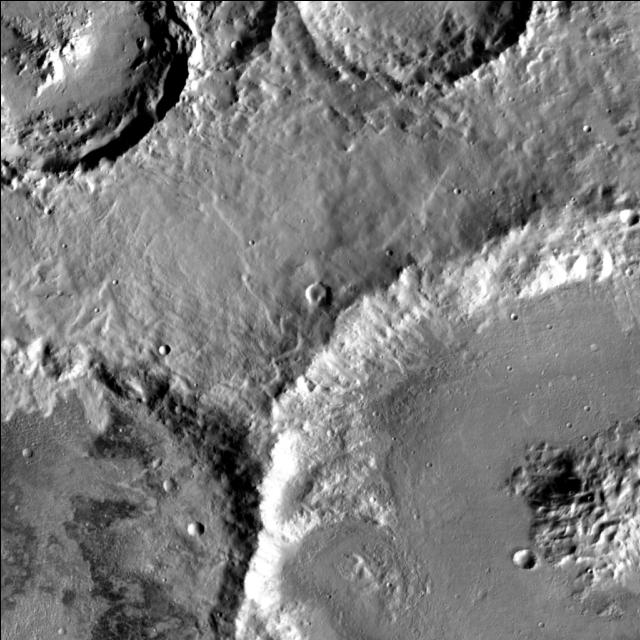crater: (246, 205, 640, 640), (0, 331, 315, 640), (0, 0, 180, 168), (234, 510, 414, 640), (298, 278, 324, 302), (392, 262, 417, 283), (506, 544, 530, 564), (288, 373, 306, 389), (614, 206, 632, 222), (180, 518, 196, 532), (154, 474, 168, 486), (152, 340, 164, 350), (14, 444, 26, 454), (224, 36, 234, 46), (458, 349, 468, 359), (49, 624, 58, 632), (146, 456, 154, 464), (576, 120, 584, 128), (618, 264, 626, 272), (583, 341, 591, 348), (320, 427, 328, 434), (454, 192, 462, 198), (509, 317, 516, 323)
